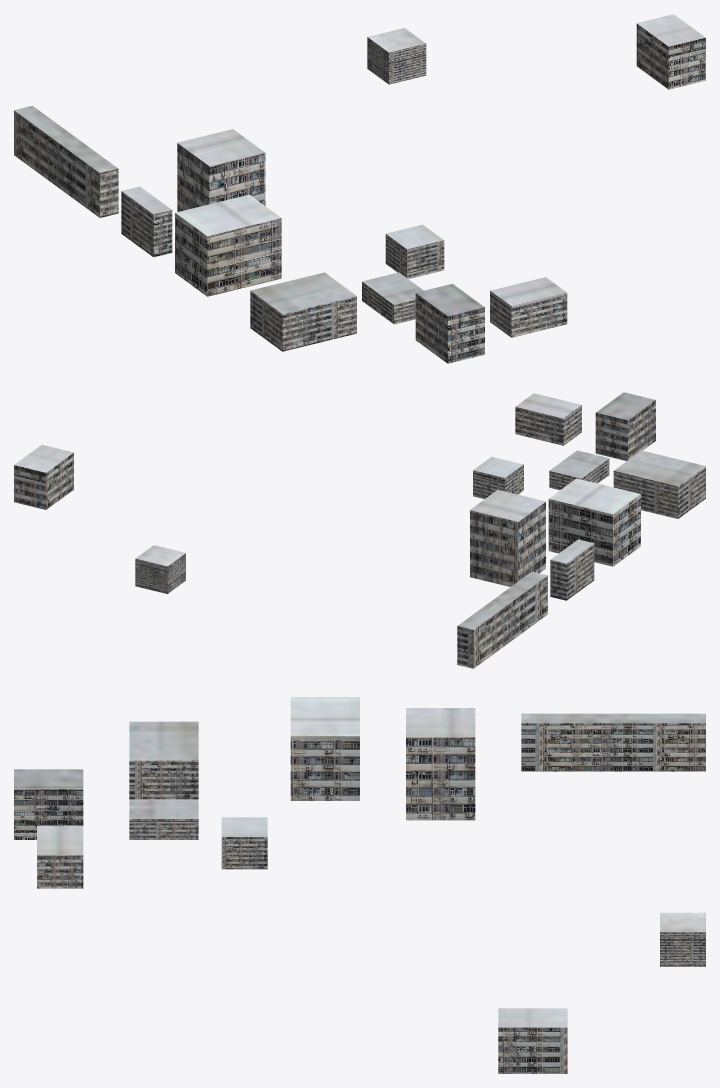
File: residenciales.obj
3 renders of one model, top to bottom at view 1: azimuth 30°, elevation 25°; view 2: azimuth 150°, elevation 25°; view 3: azimuth 270°, elevation 25°, orthographic. The views are drawn at different scales.
Parts seen in each view (by area): view 1: residencial_Cube.020; view 2: residencial_Cube.020; view 3: residencial_Cube.020.
Part boxes in pixels (x1,y1,x2,y2): residencial_Cube.020: (14,14,705,363); residencial_Cube.020: (14,392,705,668); residencial_Cube.020: (14,697,705,1073).
Bounding box in the file's own units: 8 × 0.9968 × 7.5.
